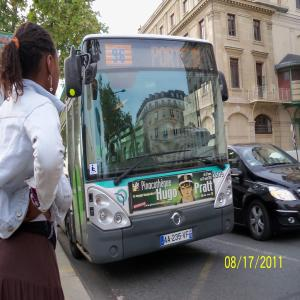Vehicle-registration-plate: (161, 228, 195, 247)
